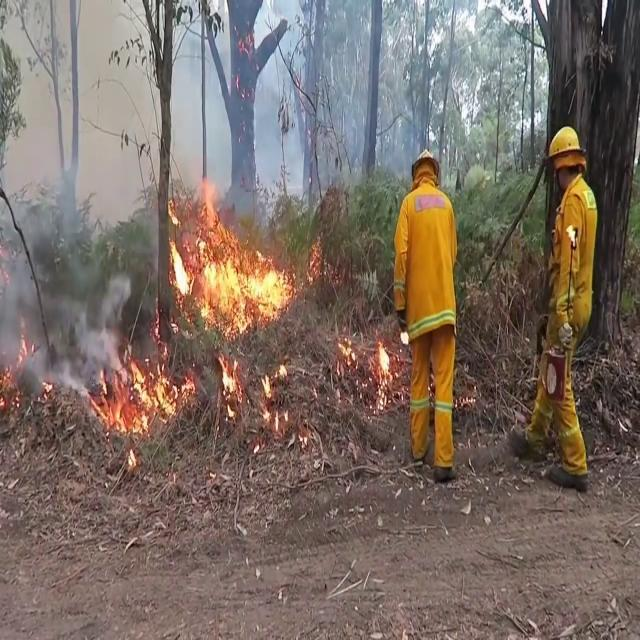Fire: (165, 198, 292, 342), (98, 343, 186, 445), (373, 333, 393, 399)
Smoke: (0, 58, 126, 414)
